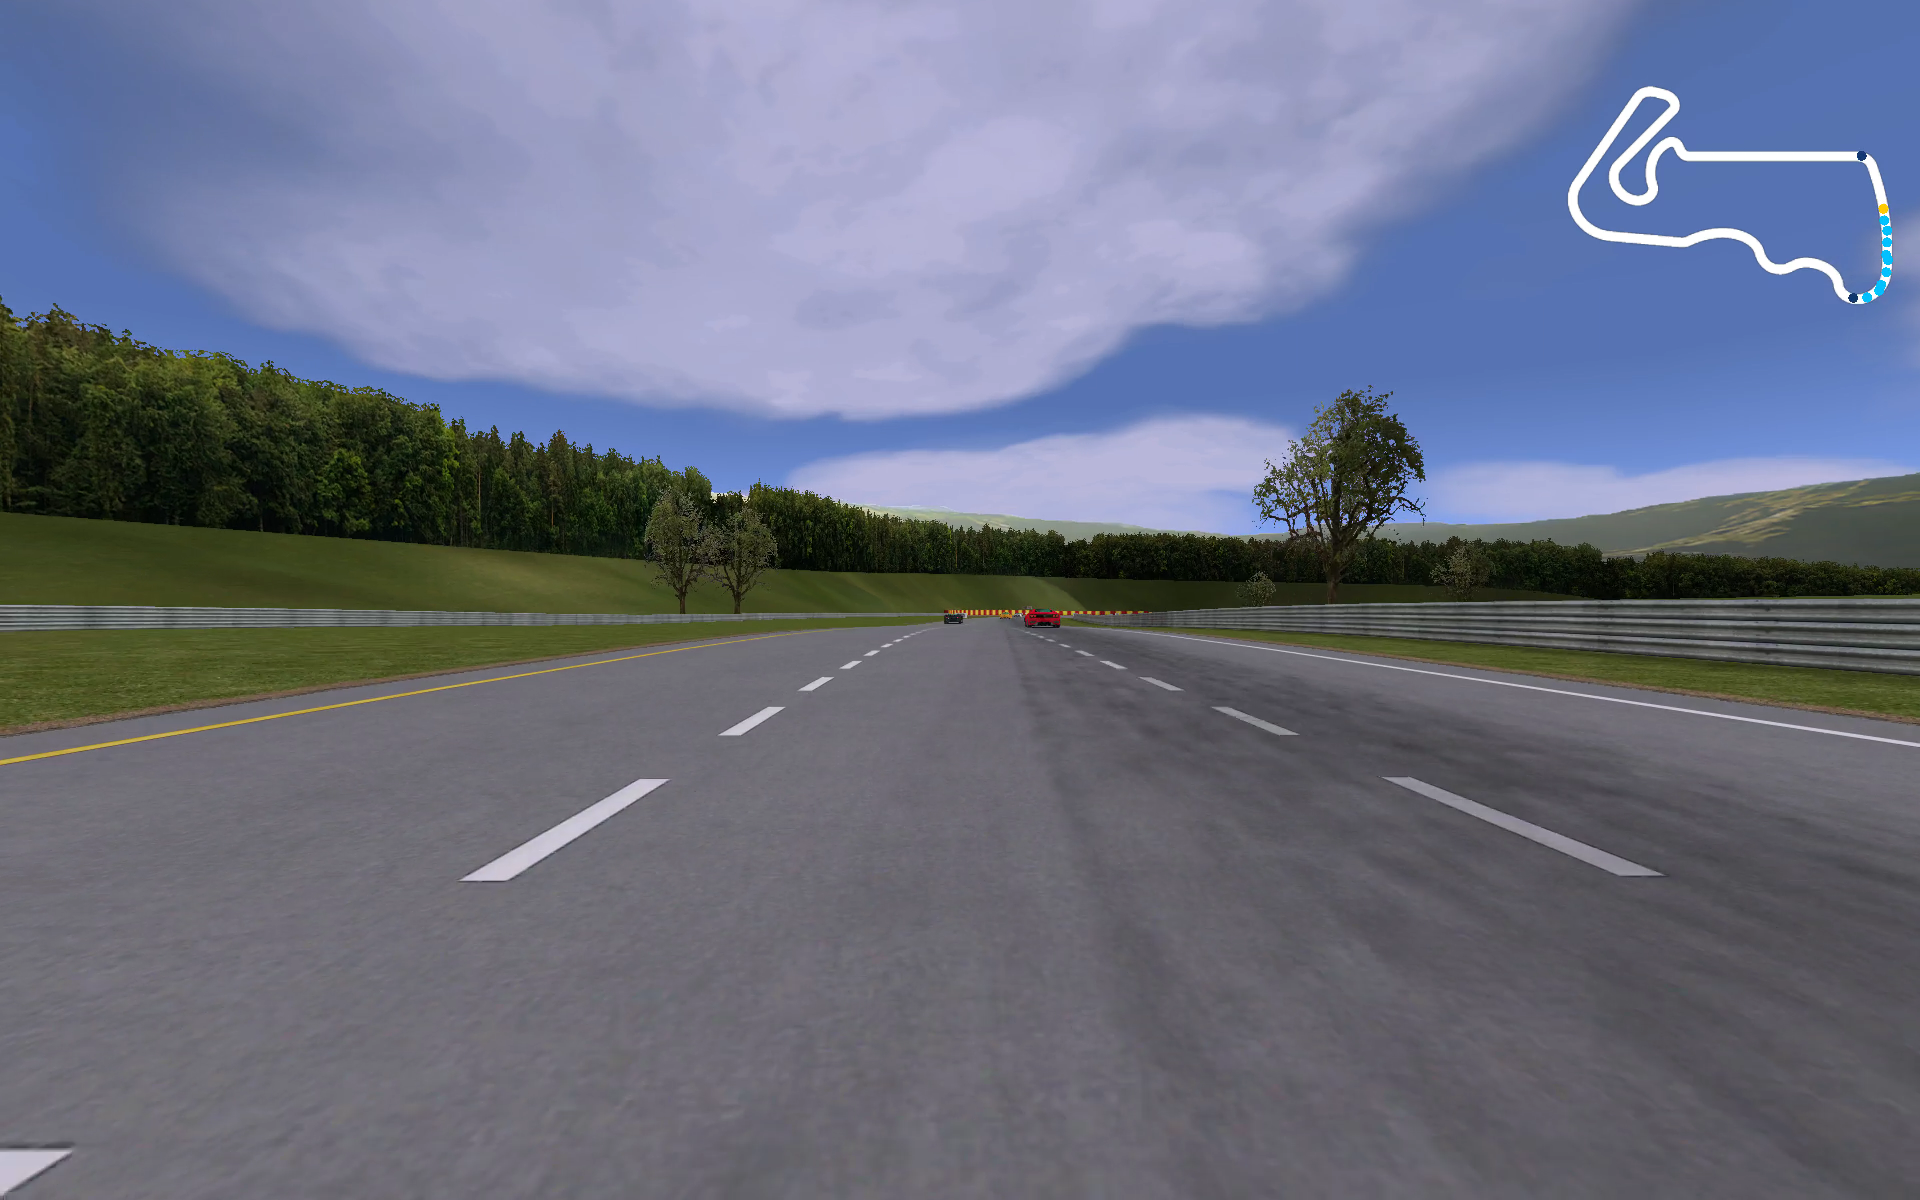car: (1022, 606, 1064, 630), (941, 612, 968, 625), (995, 611, 1015, 624)
